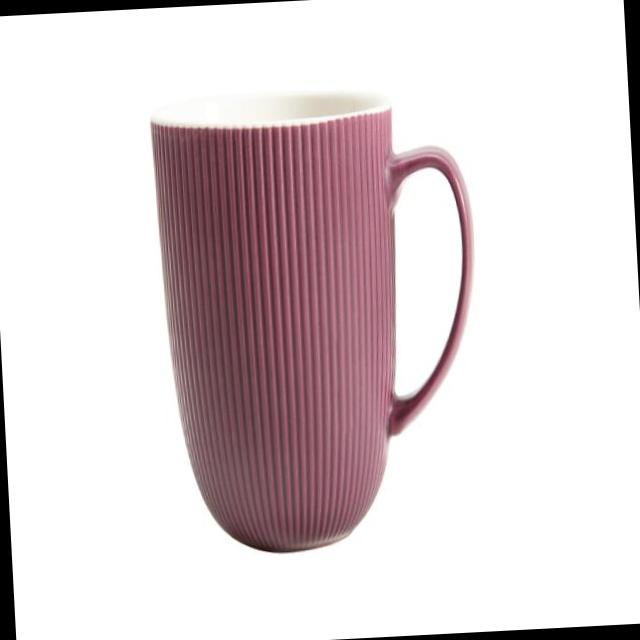Coffee Mug: (150, 82, 490, 554)
